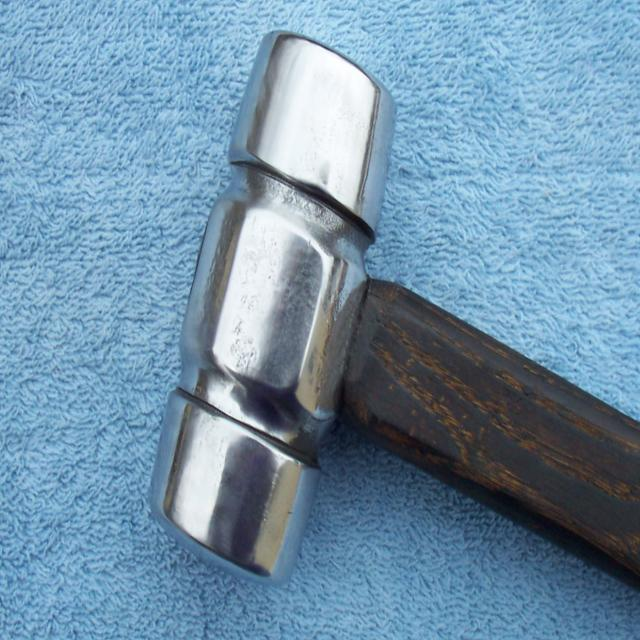hammer: (143, 22, 640, 606)
